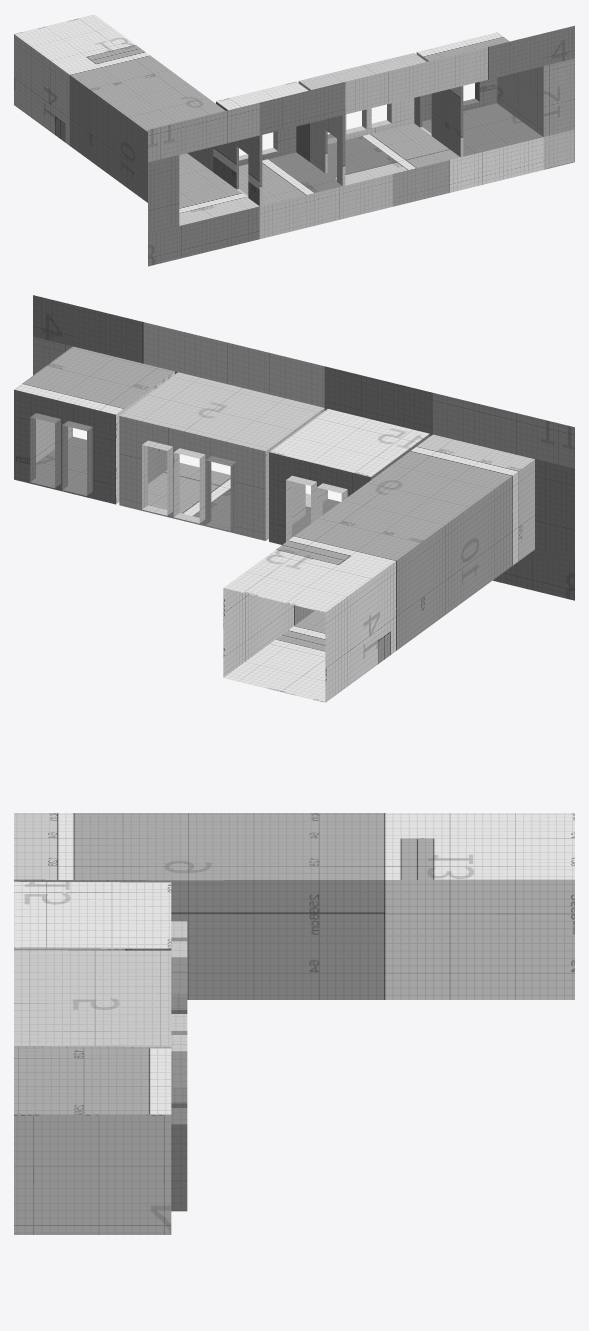
File: Office.fbx
3 views of the same model, one above another, from view 1: azimuth 30°, elevation 25°; view 2: azimuth 150°, elevation 25°; view 3: azimuth 270°, elevation 25° (orthographic). The views are drawn at different scales.
Visible parts, largest first — view 1: presOffBlackWall01001Rev; view 2: presOffBlackWall01001Rev; view 3: presOffBlackWall01001Rev.
Part boxes in pixels (x1,y1,x2,y2): presOffBlackWall01001Rev: (14, 14, 574, 266); presOffBlackWall01001Rev: (14, 295, 574, 702); presOffBlackWall01001Rev: (14, 813, 574, 1234).
Bounding box in the file's own units: 27.21 × 8.32 × 18.24.
